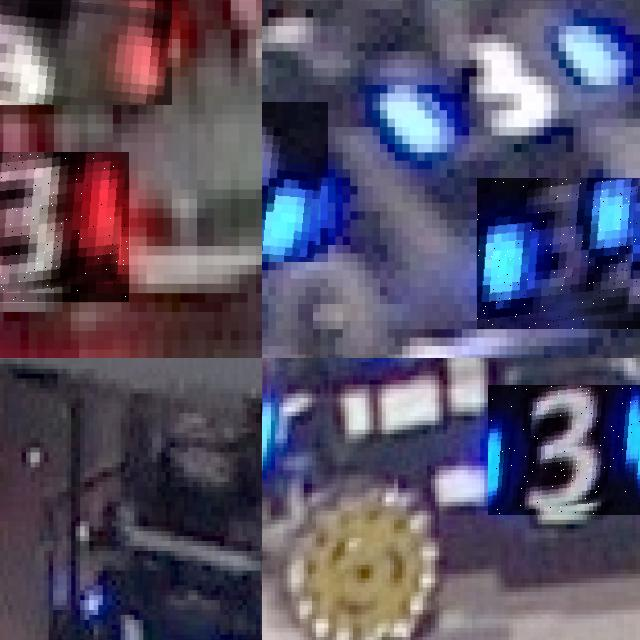B3: (358, 9, 633, 152), (476, 177, 640, 329), (488, 384, 640, 515), (262, 102, 328, 262)
R3: (0, 151, 129, 302), (0, 0, 172, 104)
